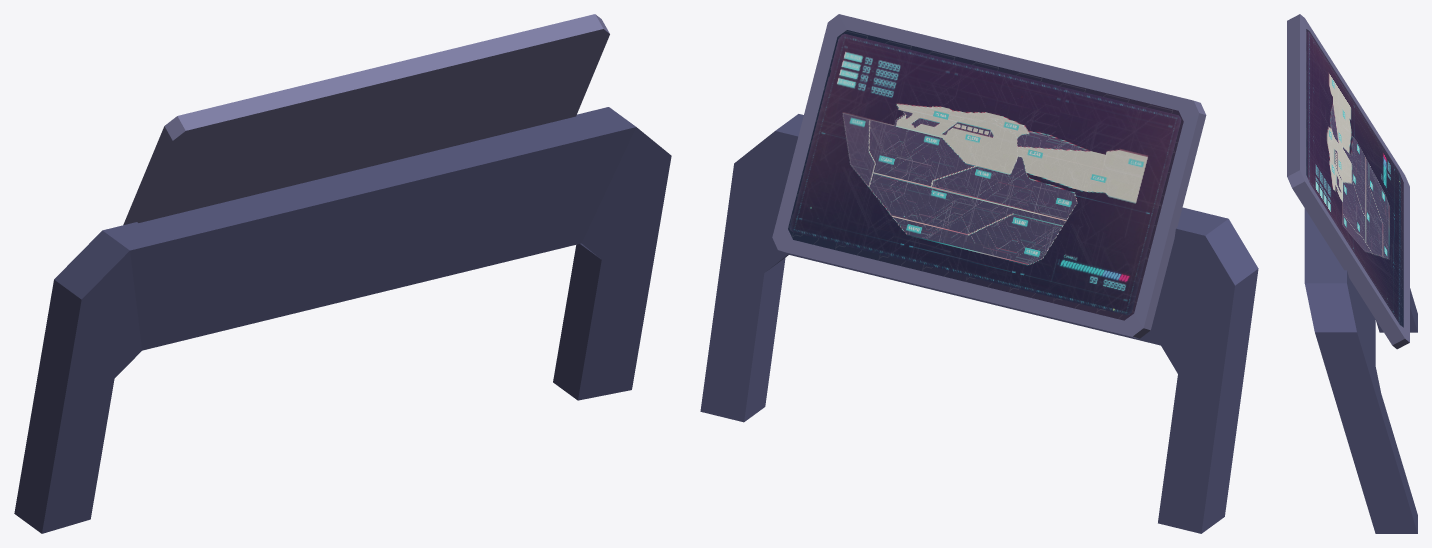
File: Console.fbx
3 renders of one model, left to right at view 1: azimuth 30°, elevation 25°; view 2: azimuth 150°, elevation 25°; view 3: azimuth 270°, elevation 25°, orthographic. The views are drawn at different scales.
Visible parts, largest first — view 1: Console; view 2: Console; view 3: Console.
Boxes of the visible parts, <box> form: Console: <box>14,14,671,533</box>; Console: <box>700,14,1258,533</box>; Console: <box>1287,14,1417,533</box>.
Size of the model in its own units: 1.22 by 0.8534 by 0.3048.
